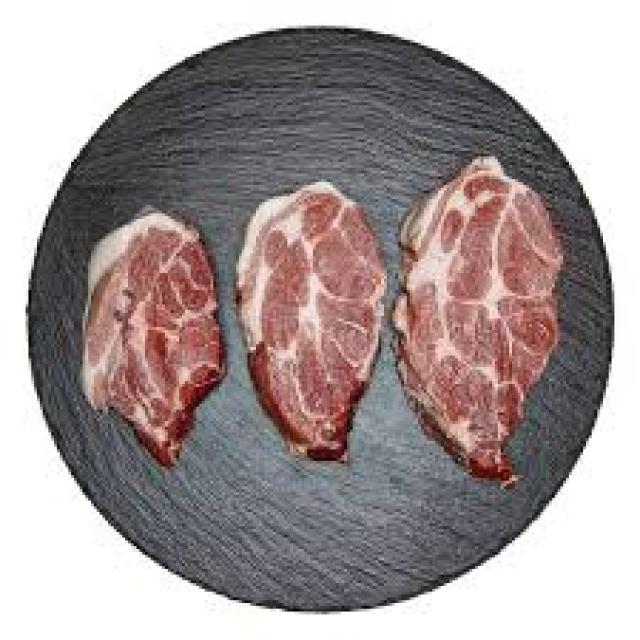pork: (67, 158, 604, 505)
